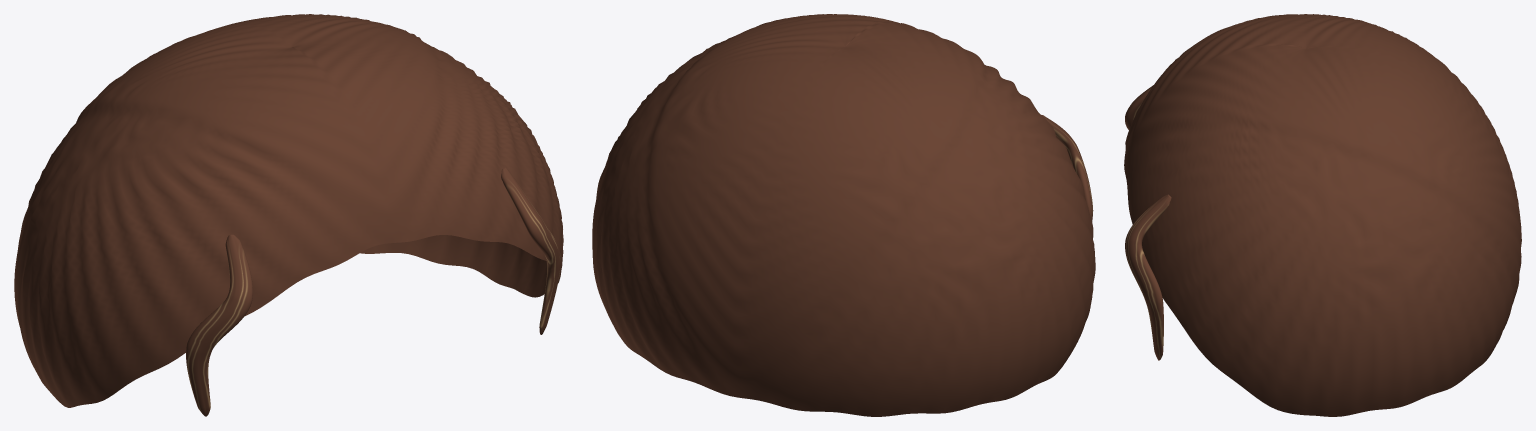
The model's file is Highlights-1da0a6b29b01252-hair.glb.
The picture shows the model from 3 angles, left to right: view 1: azimuth 30°, elevation 25°; view 2: azimuth 150°, elevation 25°; view 3: azimuth 270°, elevation 25°; orthographic projection. The views are drawn at different scales.
Visible parts, largest first — view 1: 226 hair / Hair / chestnut226.001; view 2: 226 hair / Hair / chestnut226.001; view 3: 226 hair / Hair / chestnut226.001.
Part boxes in pixels (x1,y1,x2,y2): 226 hair / Hair / chestnut226.001: [14, 14, 563, 416]; 226 hair / Hair / chestnut226.001: [592, 14, 1095, 416]; 226 hair / Hair / chestnut226.001: [1124, 14, 1521, 416].
Size of the model in its own units: 0.9988 by 0.599 by 0.7845.
1 material, 1 textured.
